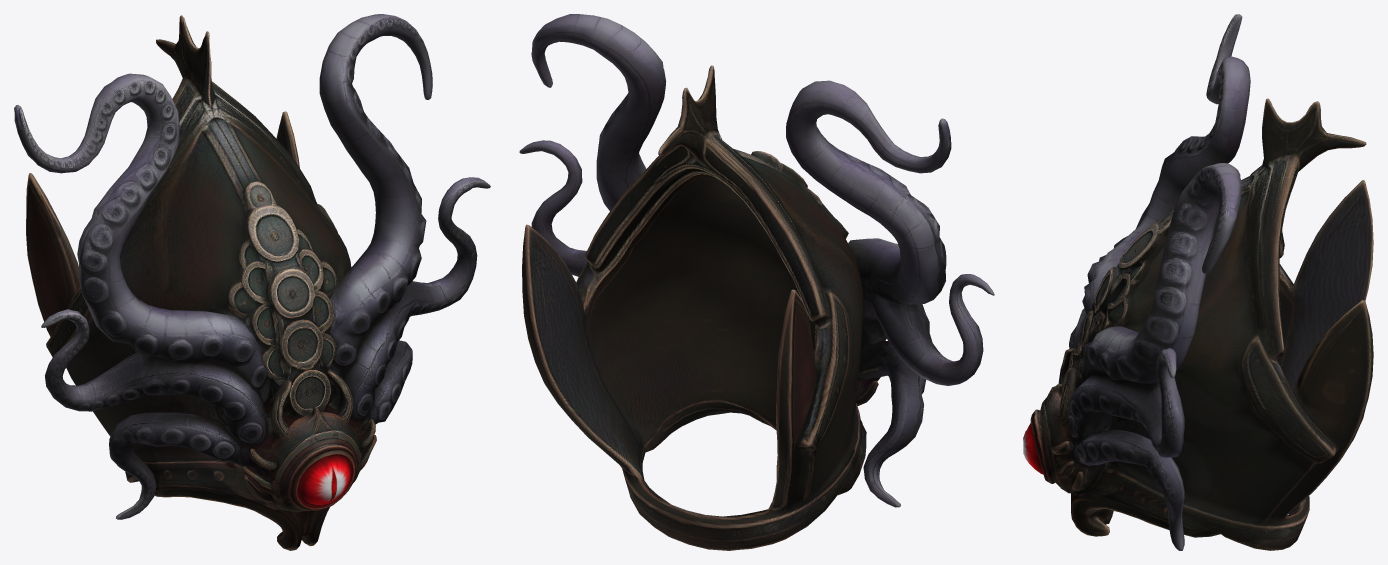
File: _Leviathan_Crown_0324060714_texture.fbx
3 views of the same model, side by side, from view 1: azimuth 30°, elevation 25°; view 2: azimuth 150°, elevation 25°; view 3: azimuth 270°, elevation 25° (orthographic). The views are drawn at different scales.
Visible parts, largest first — view 1: Mesh_0; view 2: Mesh_0; view 3: Mesh_0.
Part boxes in pixels (x1,y1,x2,y2): Mesh_0: [14, 14, 490, 550]; Mesh_0: [519, 14, 994, 550]; Mesh_0: [1023, 14, 1373, 550].
Bounding box in the file's own units: 190 × 181 × 133.
Materials: 1 (1 with a texture image).
